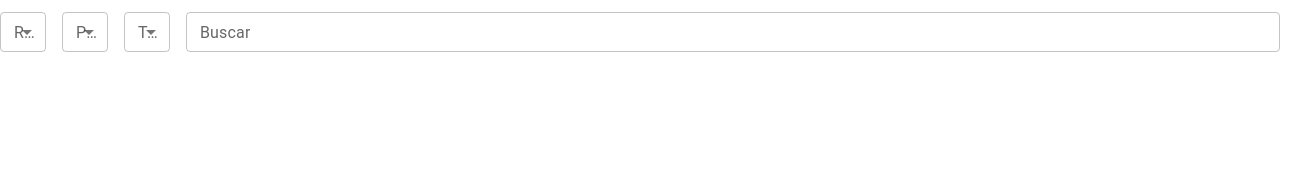
Test: CoffeeFiltersBar › publica la búsqueda al escribir y la limpia con el botón
In the search field labelled "Buscar": coordinates (733, 32) [186, 12, 1280, 52], type "geisha"
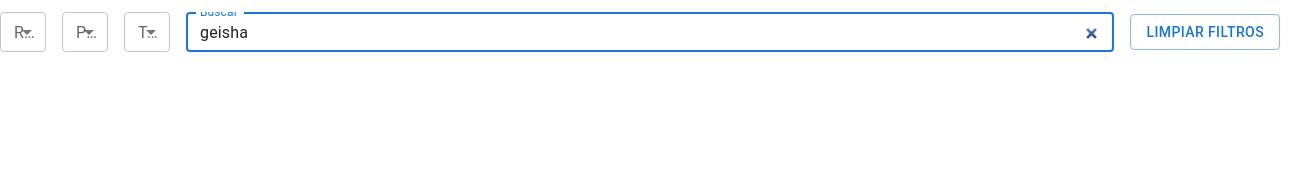
Click the button "Limpiar filtros": coordinates (1205, 32) [1130, 14, 1280, 50]
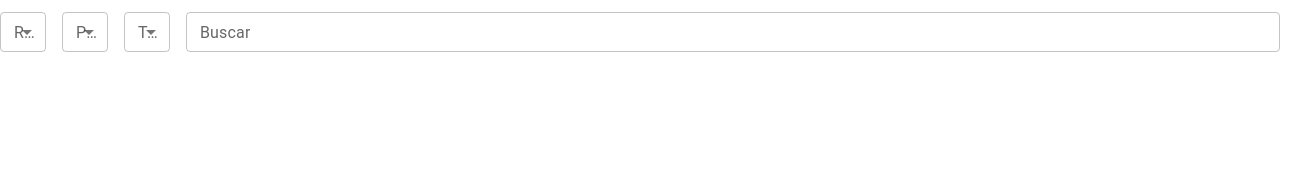
Check: the search field labelled "Buscar" is empty, box [186, 12, 1280, 52]
